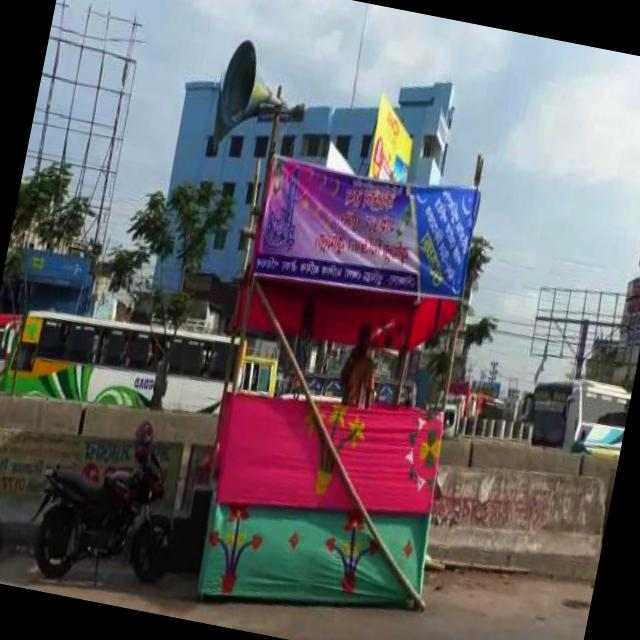motorcycle: (24, 399, 198, 601)
